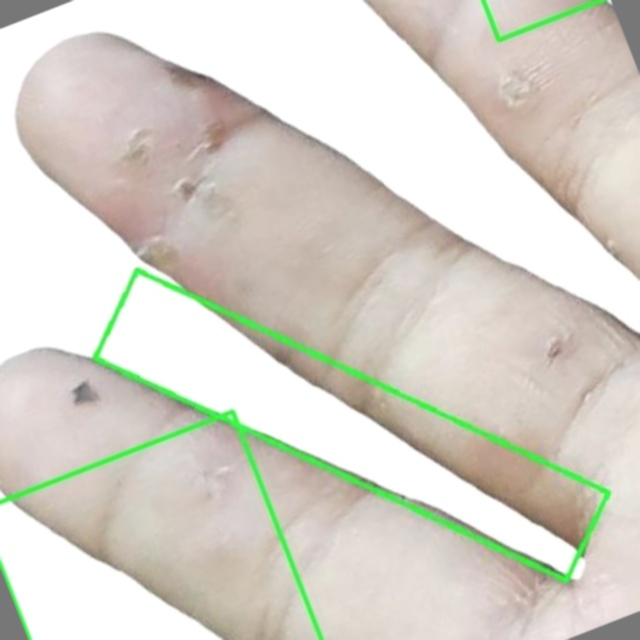Scabies: (96, 271, 608, 581)
